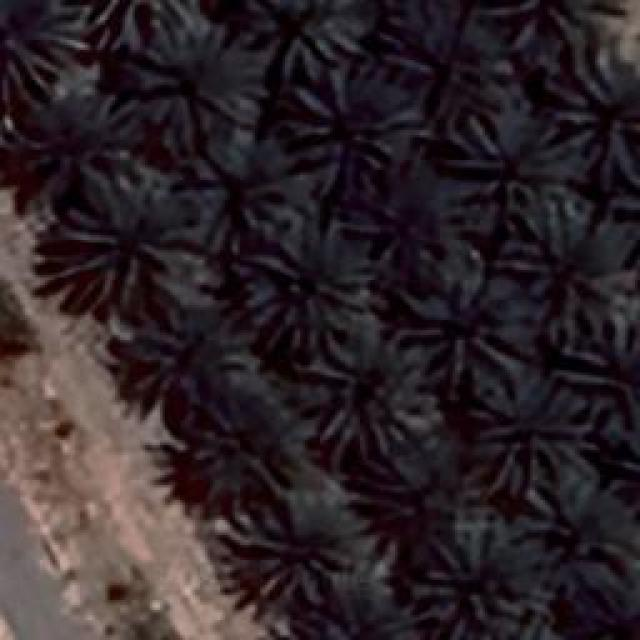PalmTree: (48, 170, 190, 310), (507, 198, 635, 338), (240, 220, 372, 355), (130, 15, 270, 135), (467, 370, 595, 500), (304, 335, 438, 455), (282, 62, 396, 192), (392, 10, 510, 130), (412, 520, 530, 638), (238, 490, 352, 605), (542, 50, 638, 180), (128, 302, 255, 400), (184, 406, 308, 499), (555, 507, 640, 640), (556, 318, 640, 449), (8, 0, 91, 102), (135, 27, 312, 74), (476, 0, 626, 54), (19, 101, 122, 174), (198, 147, 290, 225), (380, 186, 458, 274), (366, 450, 464, 520), (305, 572, 403, 640), (420, 288, 508, 362), (462, 134, 552, 198), (0, 266, 29, 384), (615, 421, 640, 530), (622, 158, 640, 274), (0, 264, 17, 376)
